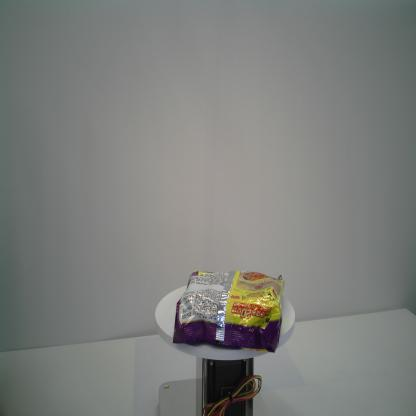Instant Noodles: (172, 268, 286, 353)
